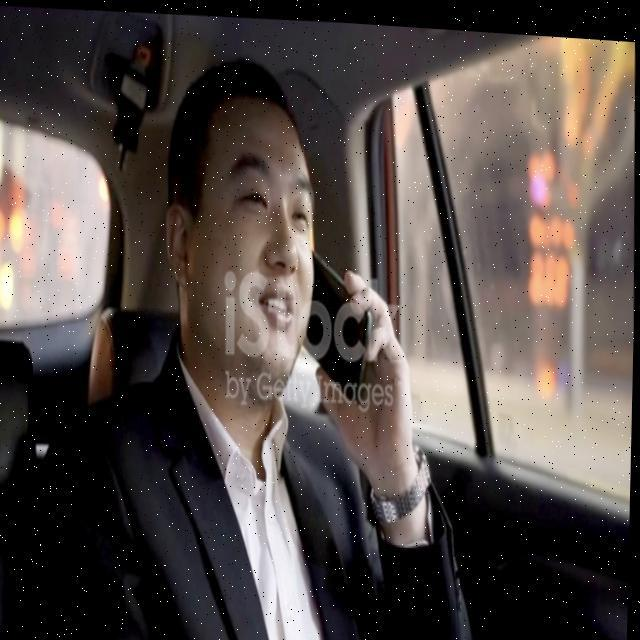PhoneCall: (306, 237, 375, 403)
